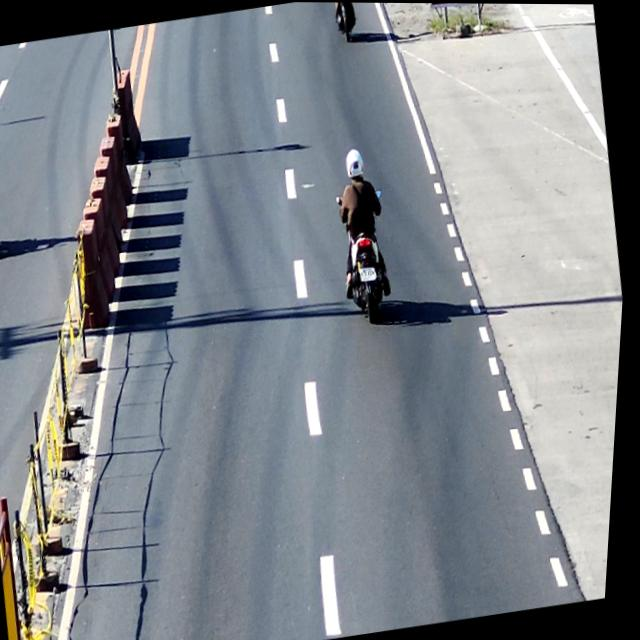License-Plate: (330, 2, 364, 45), (358, 261, 383, 285)
Motorcycle: (328, 171, 410, 328)
